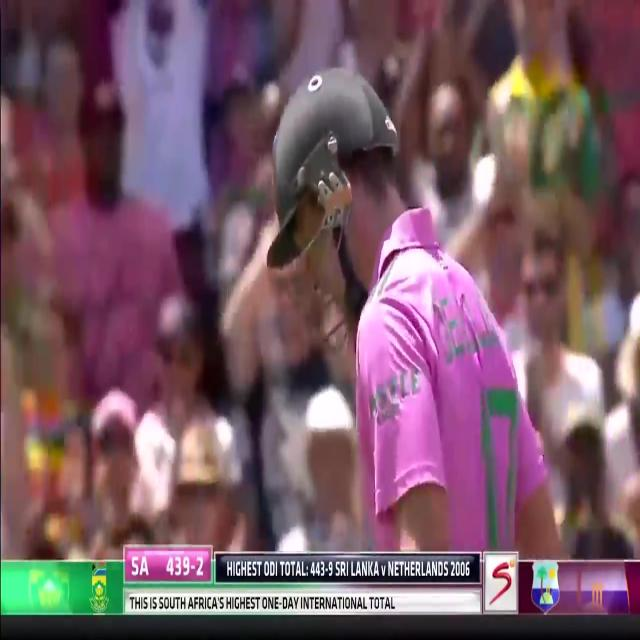Ball: (260, 58, 560, 552)
